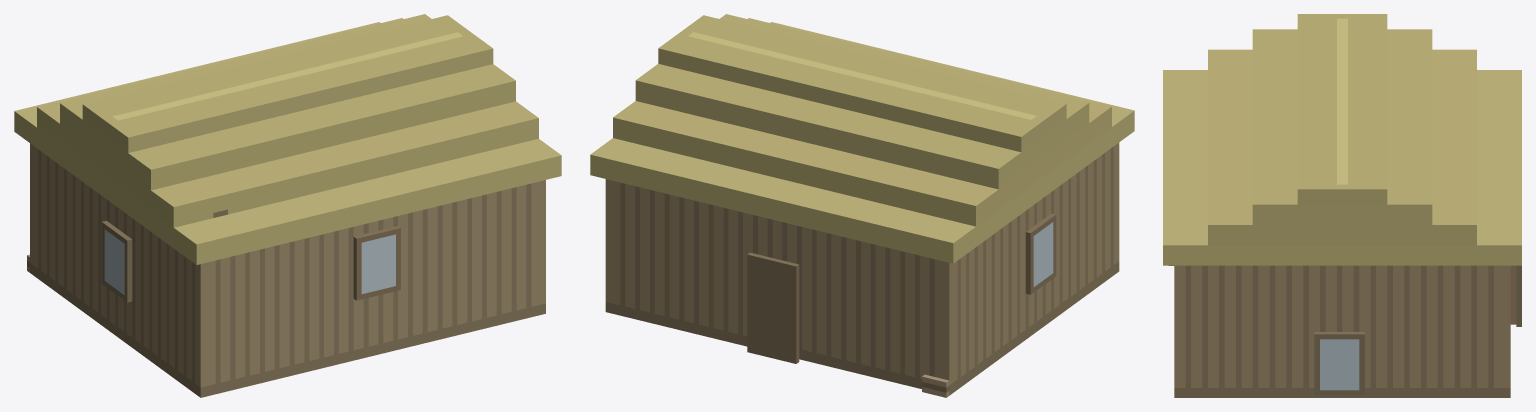
The model's file is barco_encallado_02.glb.
The picture shows the model from 3 angles, left to right: view 1: azimuth 30°, elevation 25°; view 2: azimuth 150°, elevation 25°; view 3: azimuth 270°, elevation 25°; orthographic projection.
Visible parts, largest first — view 1: barco_encallado_02; view 2: barco_encallado_02; view 3: barco_encallado_02.
Part boxes in pixels (<box>): barco_encallado_02: <box>14,14,561,397</box>; barco_encallado_02: <box>590,14,1134,397</box>; barco_encallado_02: <box>1163,14,1521,397</box>.
Size of the model in its own units: 7.4 by 4.2 by 6.4.
